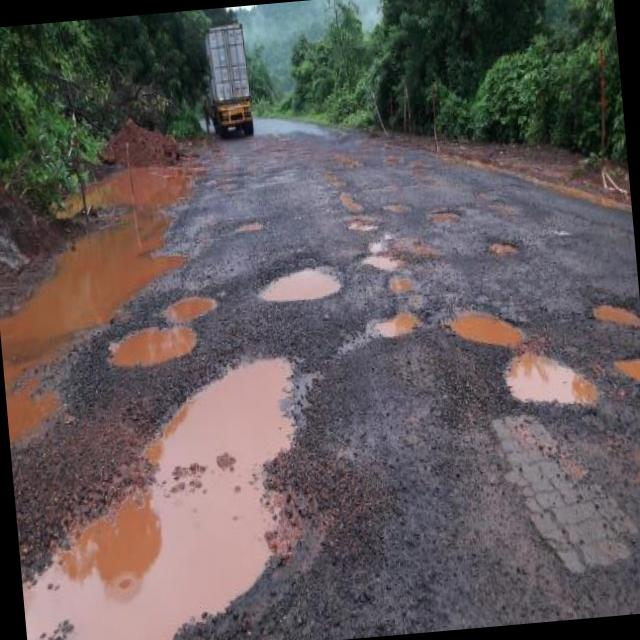Potholes: (2, 327, 356, 640), (0, 119, 228, 447), (442, 284, 602, 438), (100, 288, 218, 374), (338, 180, 416, 300), (258, 258, 344, 316), (584, 281, 640, 340), (364, 301, 426, 344), (485, 227, 534, 280), (609, 337, 640, 393), (431, 200, 466, 235)
